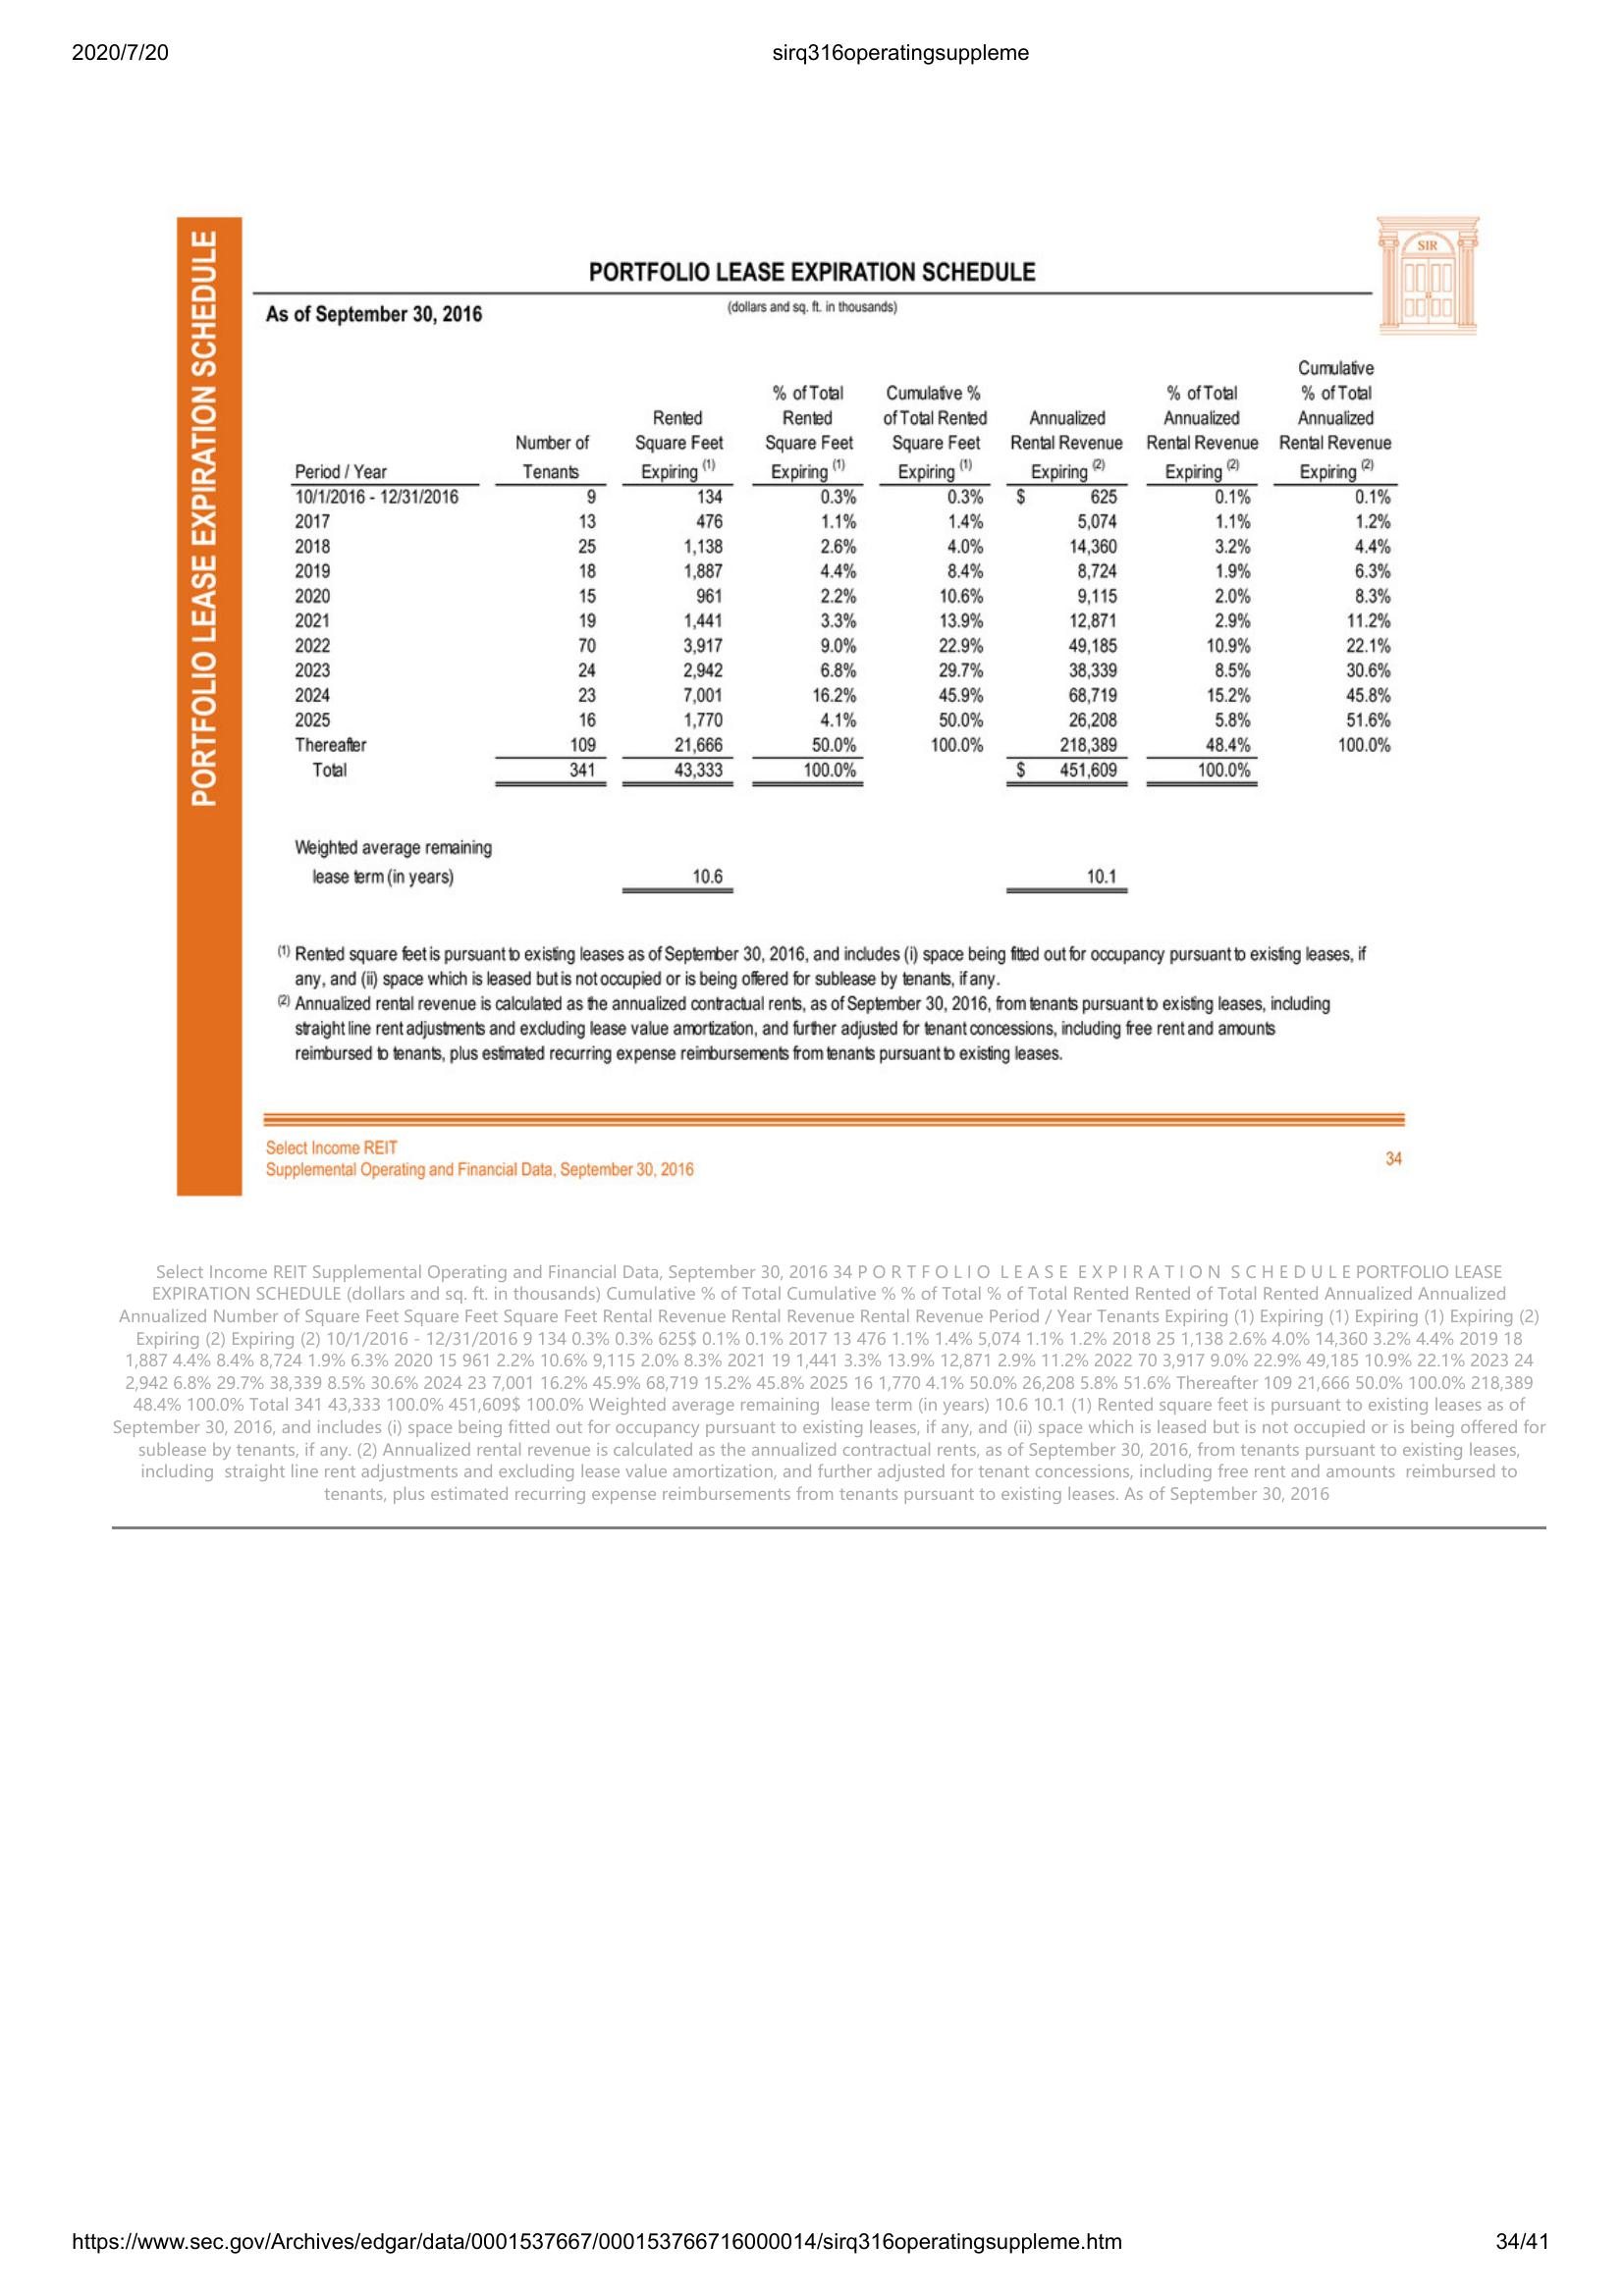table: (288, 351, 1400, 800)
